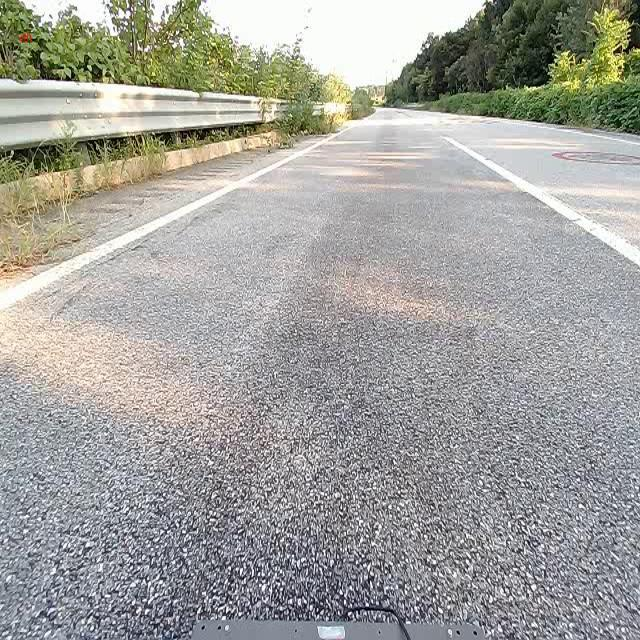Lane: (0, 130, 333, 313), (0, 139, 327, 312), (437, 128, 640, 278), (445, 137, 639, 267)
